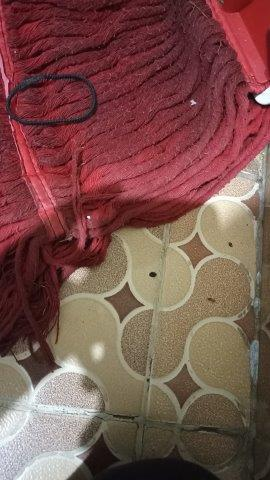karet: (6, 74, 97, 125)
